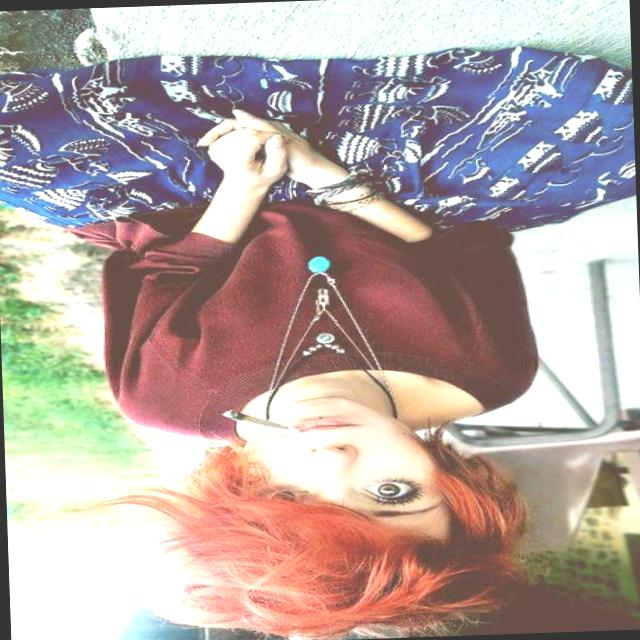cigarette: (201, 384, 300, 451)
